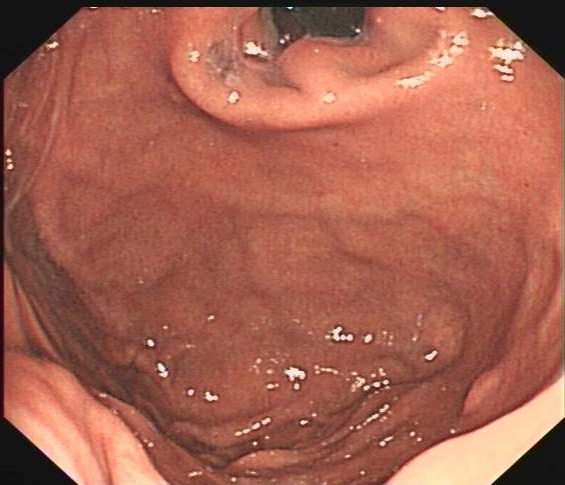Polyp: (453, 360, 510, 422)
